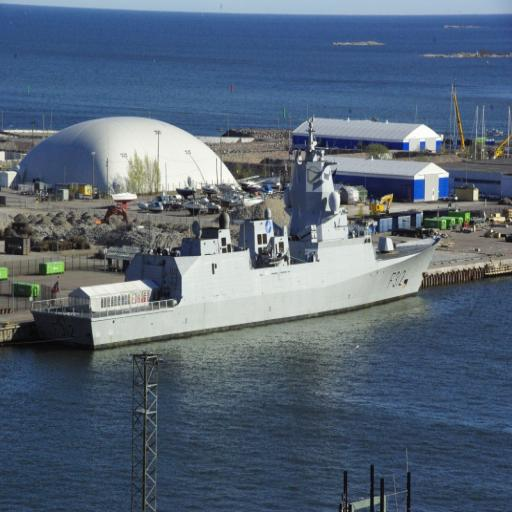Fragata: (28, 111, 444, 355)
